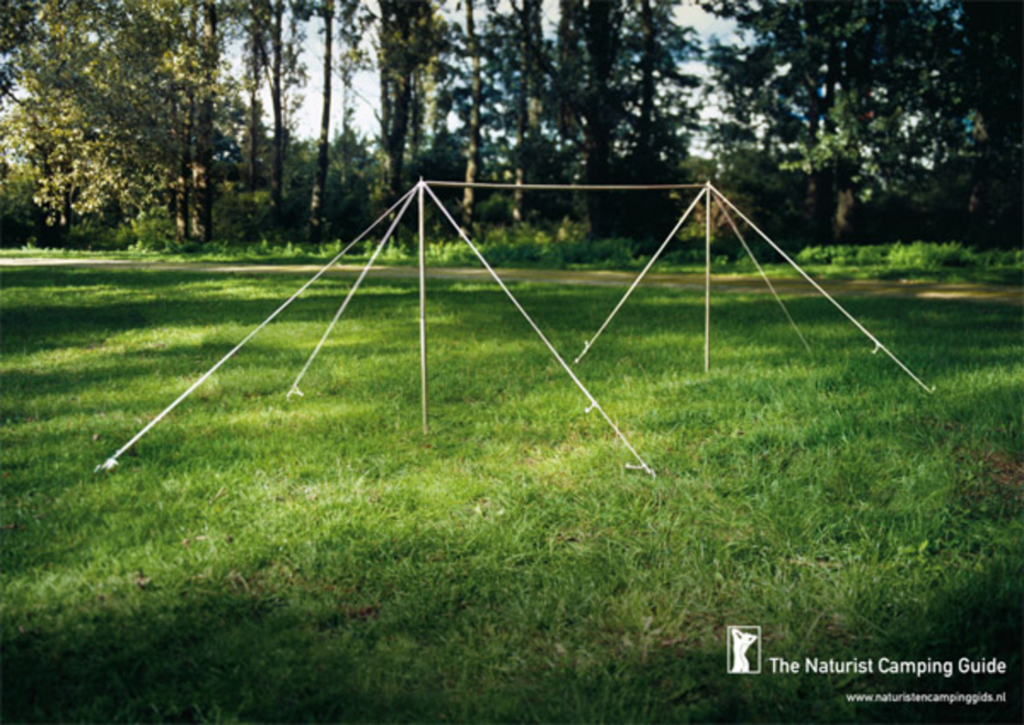Tree: (0, 0, 1024, 244)
